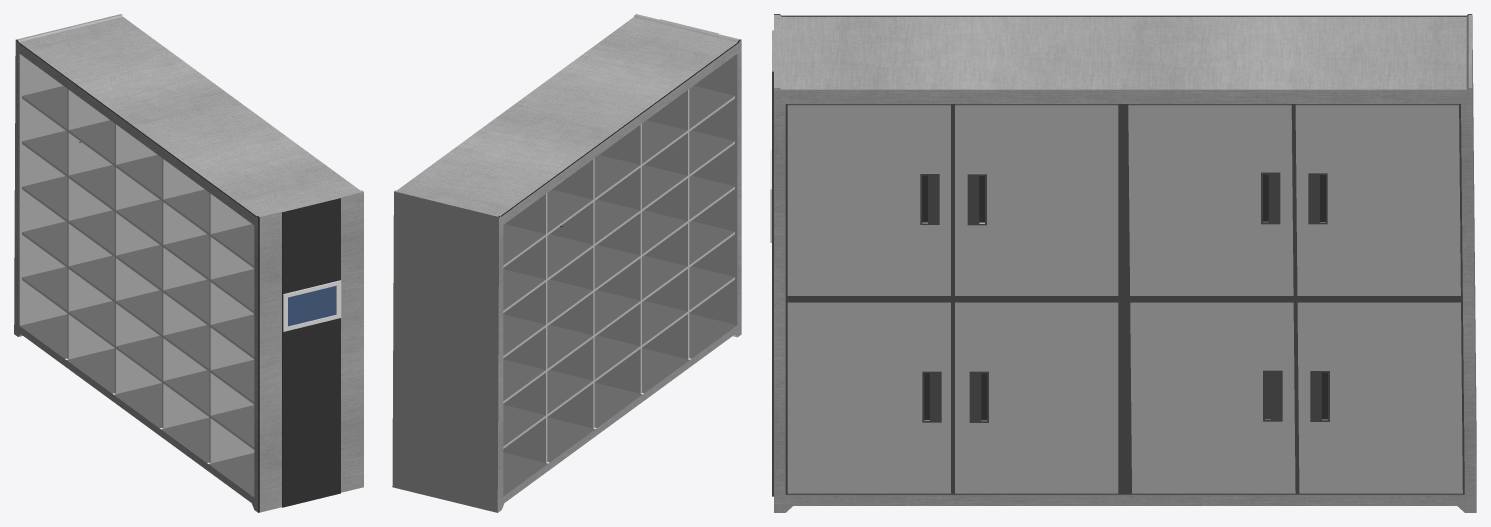
Rendered from mjjright6-5-fit.obj.
3 renders of one model, left to right at view 1: azimuth 30°, elevation 25°; view 2: azimuth 150°, elevation 25°; view 3: azimuth 270°, elevation 25°, orthographic. The views are drawn at different scales.
Parts seen in each view (by area): view 1: mjj, Mesh02; view 2: mjj; view 3: mjj.
Boxes of the visible parts, bbox=[...] form: mjj: bbox=[14, 14, 363, 512]; Mesh02: bbox=[283, 280, 341, 331]; mjj: bbox=[392, 14, 741, 512]; mjj: bbox=[772, 14, 1476, 512].
Bounding box in the file's own units: 35.84 × 94.93 × 143.
